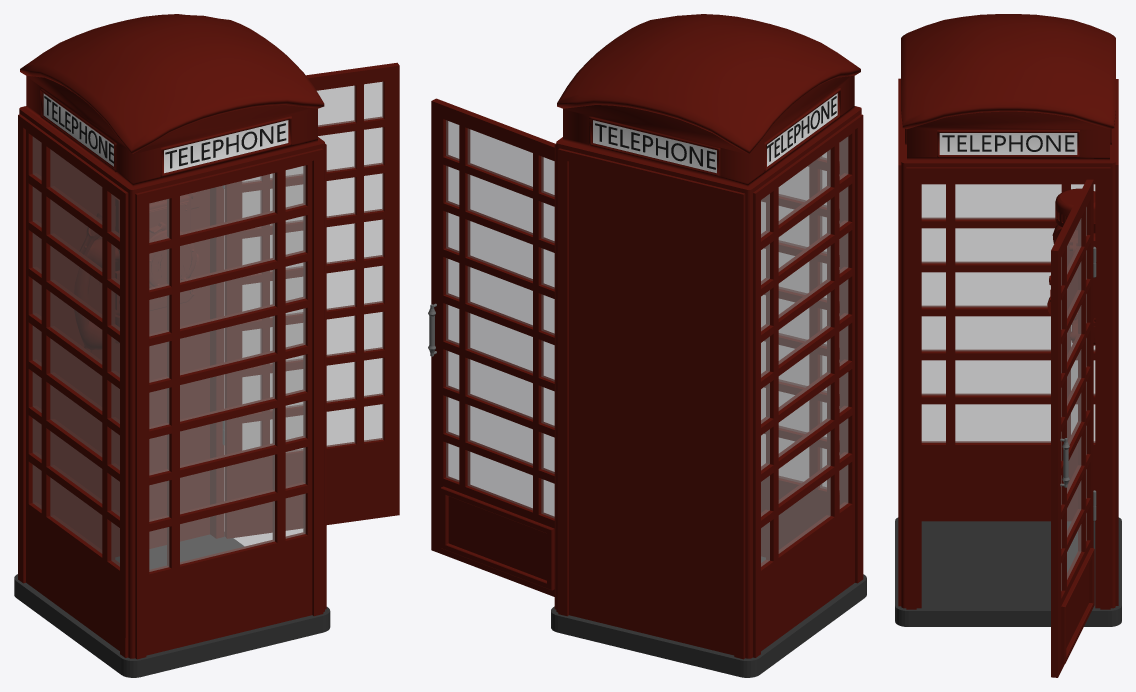
The model's file is PHONEBOX3.fbx.
The picture shows the model from 3 angles, left to right: view 1: azimuth 30°, elevation 25°; view 2: azimuth 150°, elevation 25°; view 3: azimuth 270°, elevation 25°; orthographic projection. The views are drawn at different scales.
Parts seen in each view (by area): view 1: PHONEBOX, PHONEBOX_DOOR, PHONE, PHONEHANDSET; view 2: PHONEBOX, PHONEBOX_DOOR; view 3: PHONEBOX, PHONEBOX_DOOR, PHONE.
Part boxes in pixels (left/top/right/bottom): PHONEBOX: left=14, top=14, right=330, bottom=677; PHONEBOX_DOOR: left=224, top=62, right=399, bottom=538; PHONE: left=96, top=192, right=199, bottom=315; PHONEHANDSET: left=74, top=216, right=119, bottom=356; PHONEBOX: left=551, top=14, right=866, bottom=677; PHONEBOX_DOOR: left=428, top=98, right=555, bottom=596; PHONEBOX: left=895, top=14, right=1121, bottom=626; PHONEBOX_DOOR: left=1051, top=179, right=1094, bottom=677; PHONE: left=1049, top=188, right=1095, bottom=345.
Bounding box in the file's own units: 49.71 × 76.81 × 28.99.
